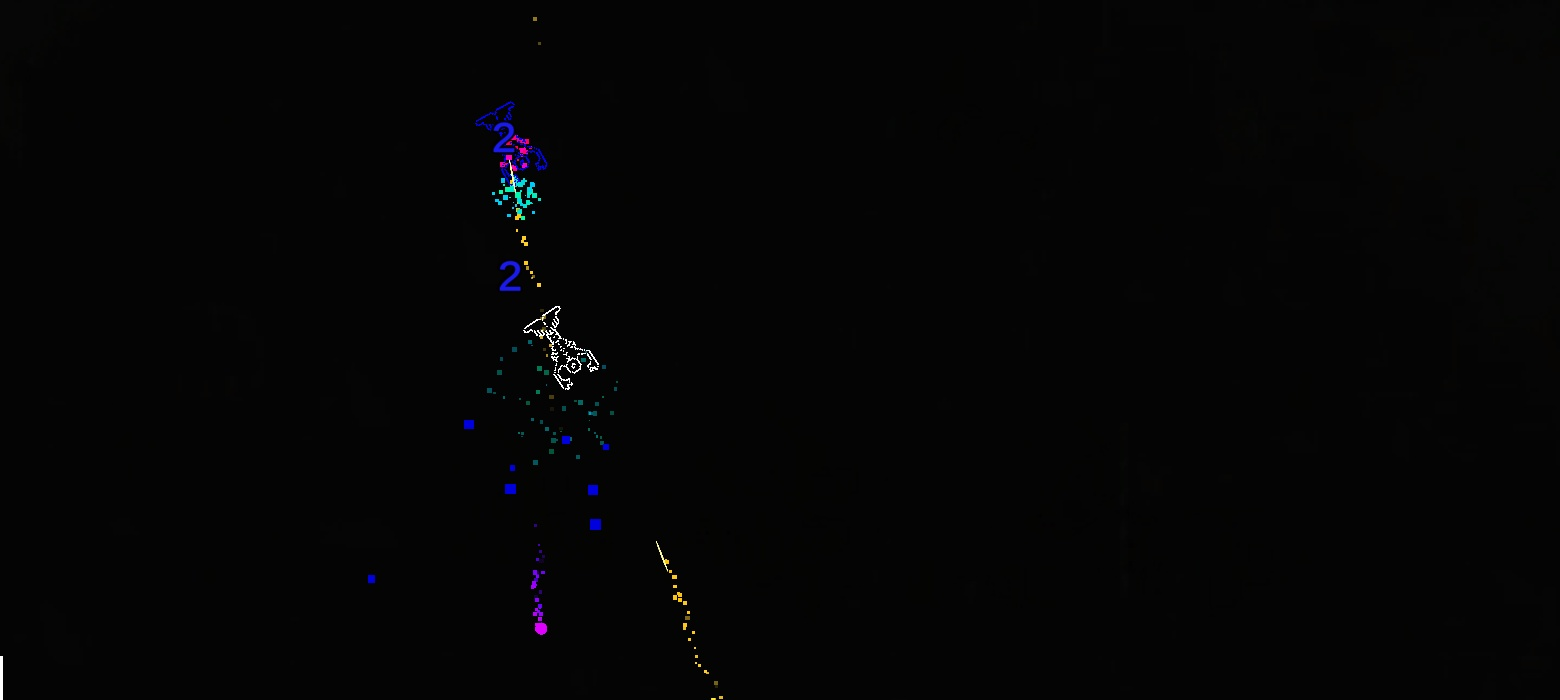enemy: (522, 305, 600, 390), (474, 102, 548, 185)
